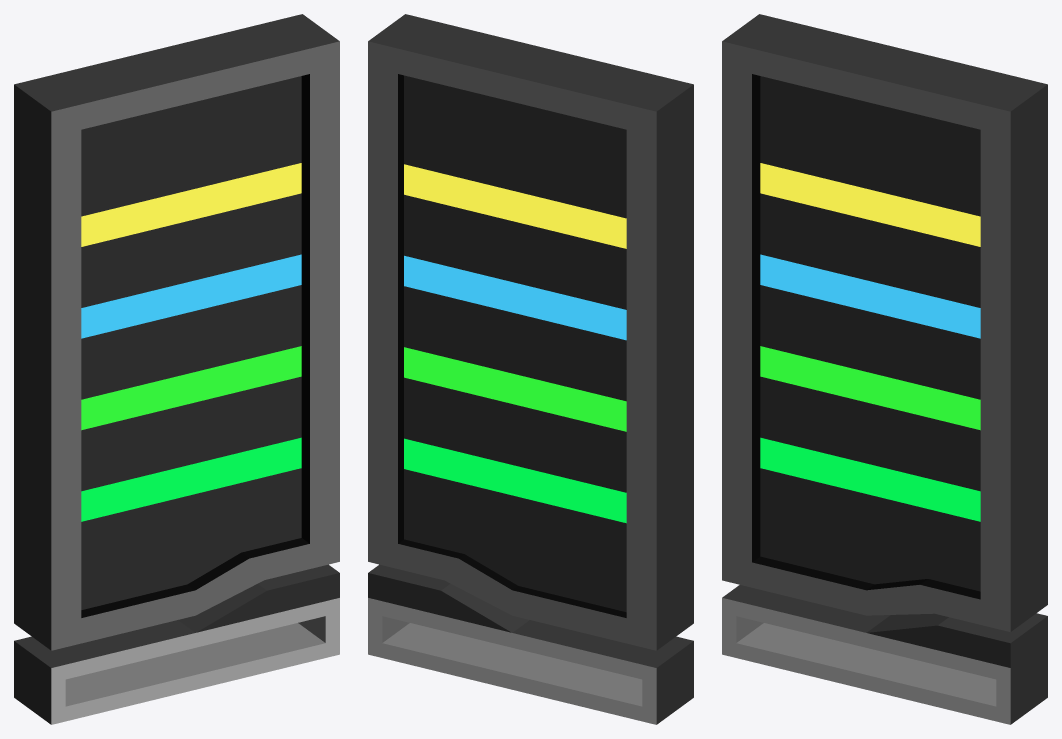
Rendered from PlacaSeccoesDireita_HallMuseu_PrimeiroAndar.gltf.
The picture shows the model from 3 angles, left to right: view 1: azimuth 30°, elevation 25°; view 2: azimuth 150°, elevation 25°; view 3: azimuth 330°, elevation 25°; orthographic projection.
Parts seen in each view (by area): view 1: Monitor_Menu.004; view 2: Monitor_Menu.004; view 3: Monitor_Menu.004.
Boxes of the visible parts, bbox=[...] form: Monitor_Menu.004: bbox=[14, 14, 339, 724]; Monitor_Menu.004: bbox=[368, 14, 693, 724]; Monitor_Menu.004: bbox=[722, 14, 1047, 724].
Size of the model in its own units: 0.9854 by 2 by 0.2208.
5 materials, 1 textured.
